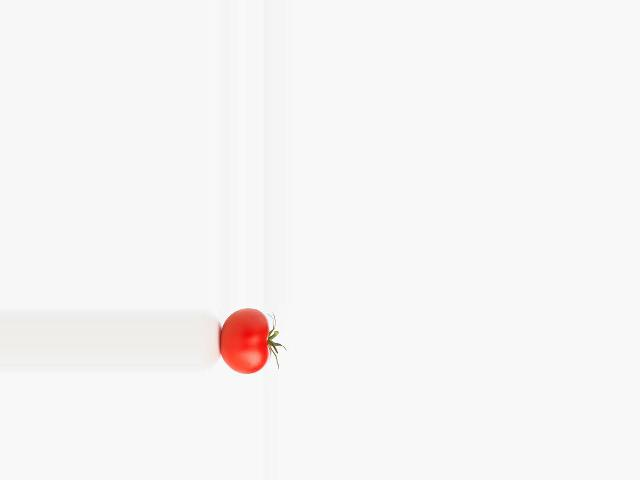tomato: (220, 309, 269, 374)
